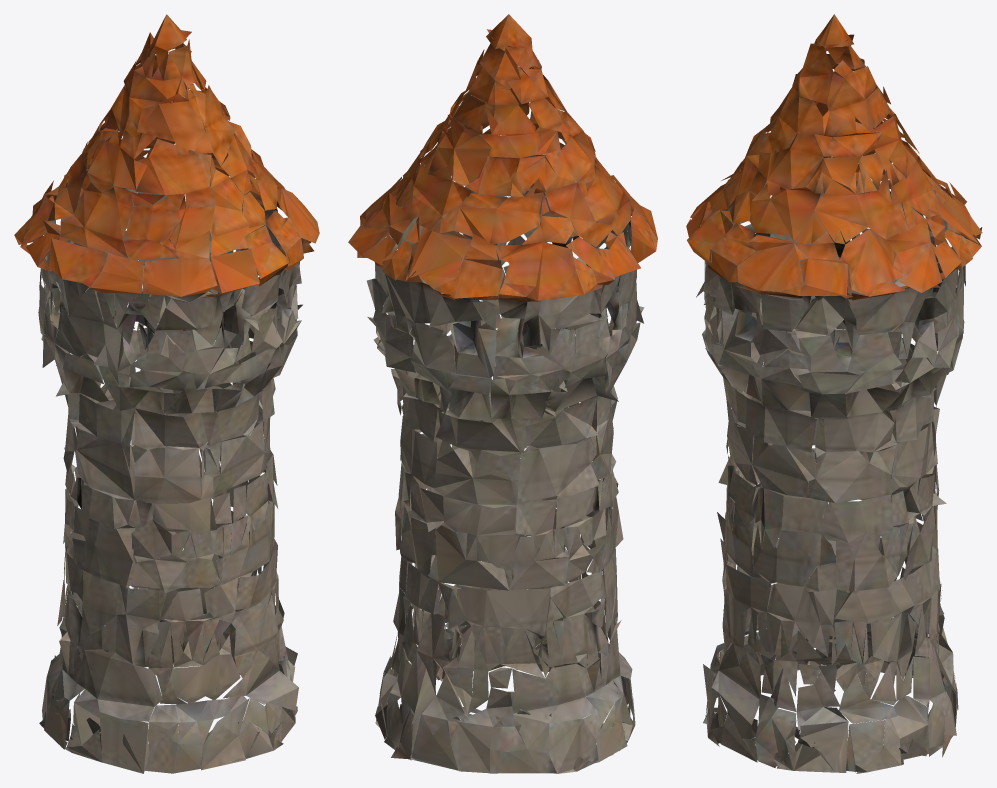
The model's file is tower_round_orange_roof_lod1.glb.
3 renders of one model, left to right at view 1: azimuth 30°, elevation 25°; view 2: azimuth 150°, elevation 25°; view 3: azimuth 270°, elevation 25°, orthographic.
Visible parts, largest first — view 1: tower_round_orange_roof_lod1; view 2: tower_round_orange_roof_lod1; view 3: tower_round_orange_roof_lod1.
Boxes of the visible parts, x1,y1,x2,y2 form: tower_round_orange_roof_lod1: (14,14,319,773); tower_round_orange_roof_lod1: (348,14,657,773); tower_round_orange_roof_lod1: (686,14,982,773).
Size of the model in its own units: 4.65 by 12.12 by 4.57.
Materials: 1 (1 with a texture image).
